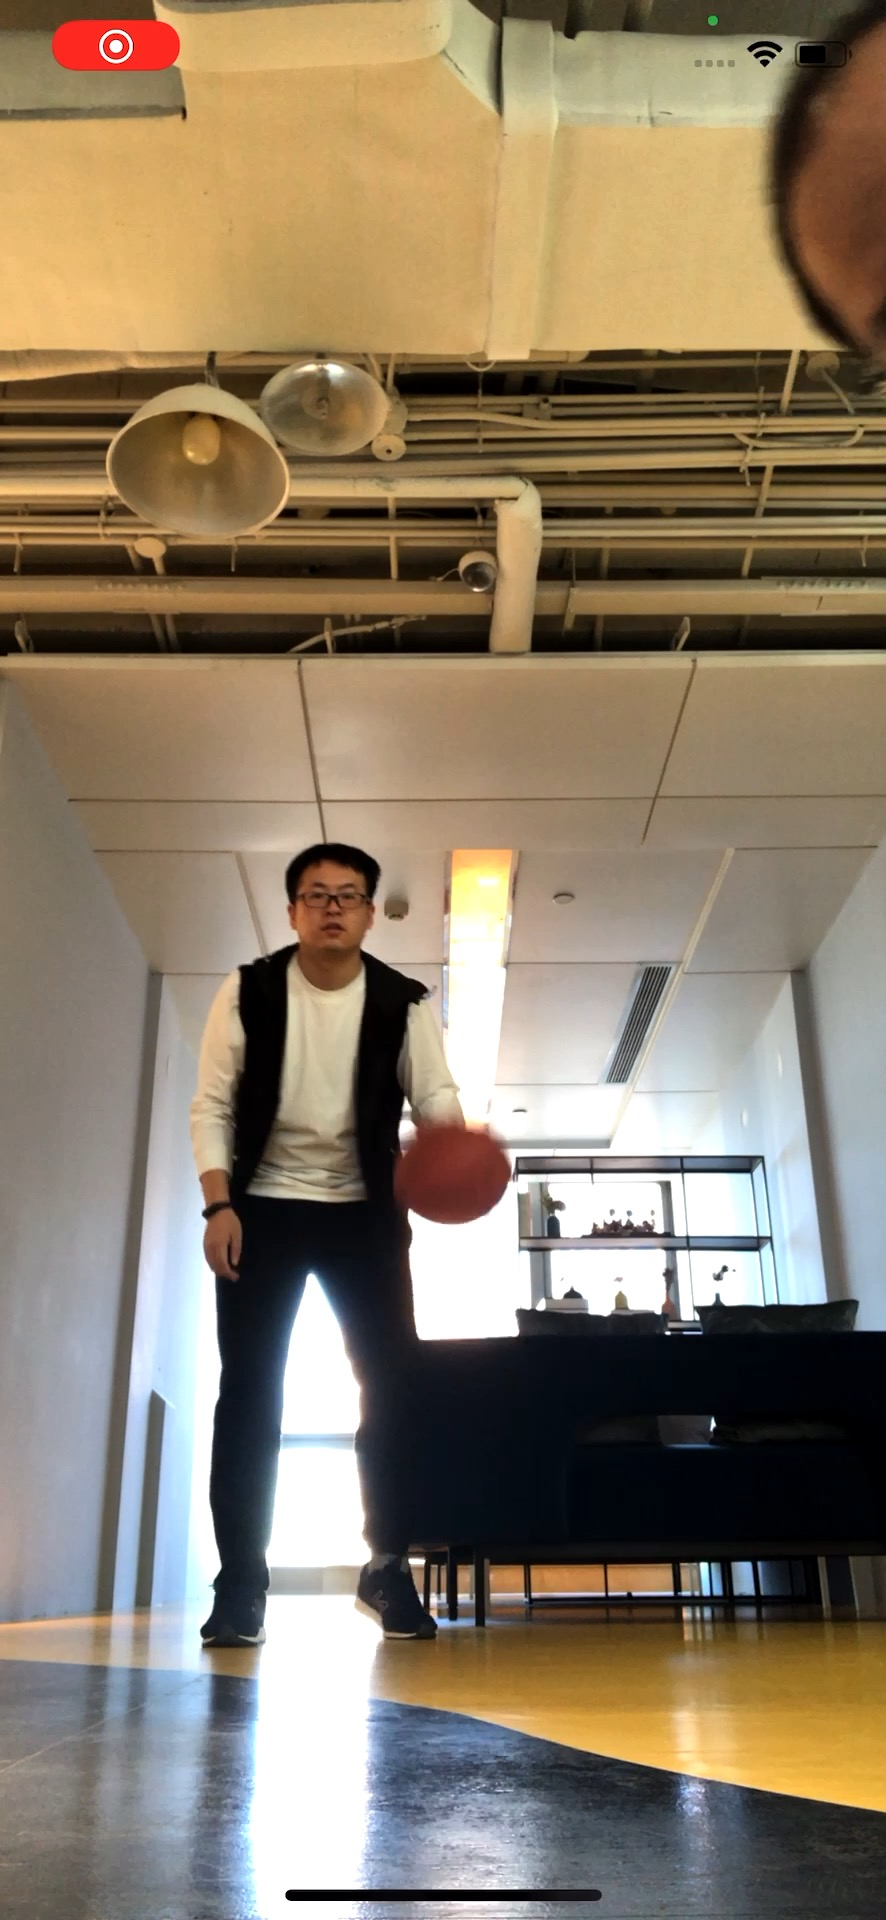ball: (394, 1129, 514, 1229)
